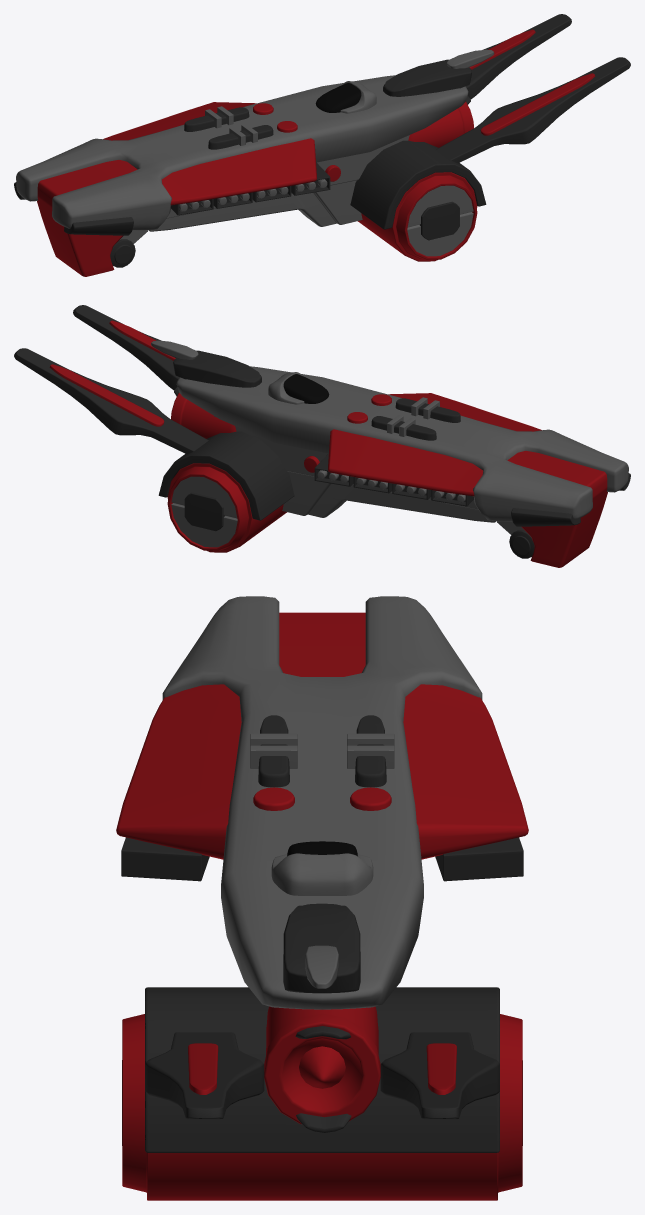
The model's file is corvette_04.glb.
3 renders of one model, top to bottom at view 1: azimuth 30°, elevation 25°; view 2: azimuth 150°, elevation 25°; view 3: azimuth 270°, elevation 25°, orthographic. The views are drawn at different scales.
Visible parts, largest first — view 1: Corvette_04; view 2: Corvette_04; view 3: Corvette_04.
Boxes of the visible parts, left/top/right/bottom form: Corvette_04: left=14, top=14, right=630, bottom=276; Corvette_04: left=14, top=305, right=630, bottom=567; Corvette_04: left=116, top=596, right=528, bottom=1200.
Size of the model in its own units: 35.92 by 9.51 by 11.47.
Materials: 1 (1 with a texture image).
